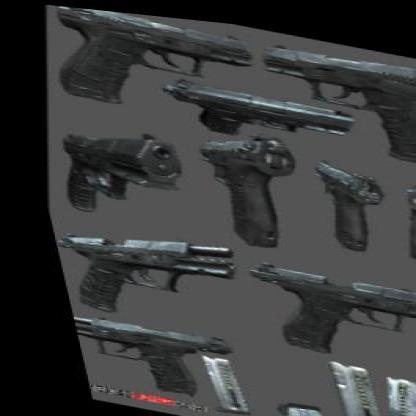pistol: (34, 3, 268, 126), (234, 26, 413, 162), (39, 215, 237, 333), (216, 253, 413, 371), (166, 116, 305, 250), (34, 113, 188, 228), (144, 70, 354, 150), (57, 307, 228, 402), (285, 148, 390, 249), (380, 172, 413, 257)
